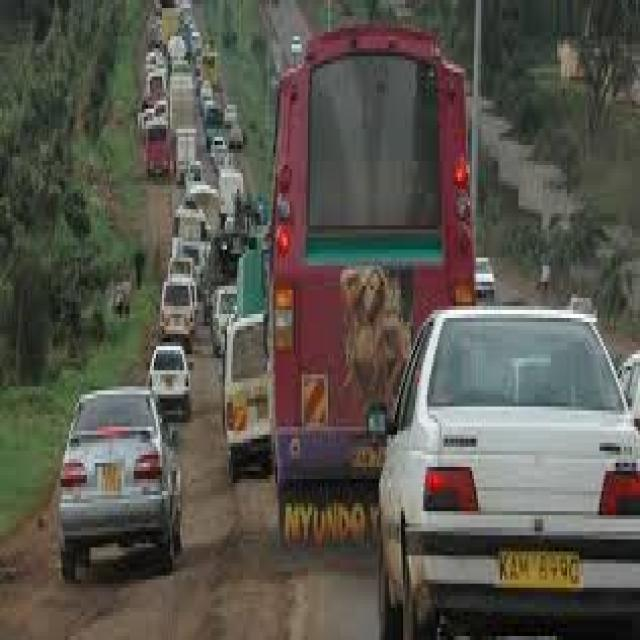bus: (266, 0, 499, 315), (144, 120, 178, 184)
matatu: (219, 311, 264, 468), (156, 267, 198, 346)
